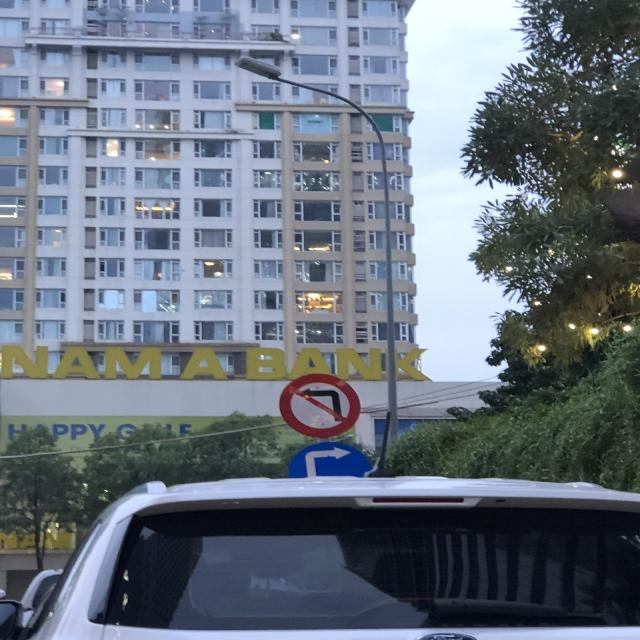Bien bao cam re trai: (269, 365, 369, 439)
